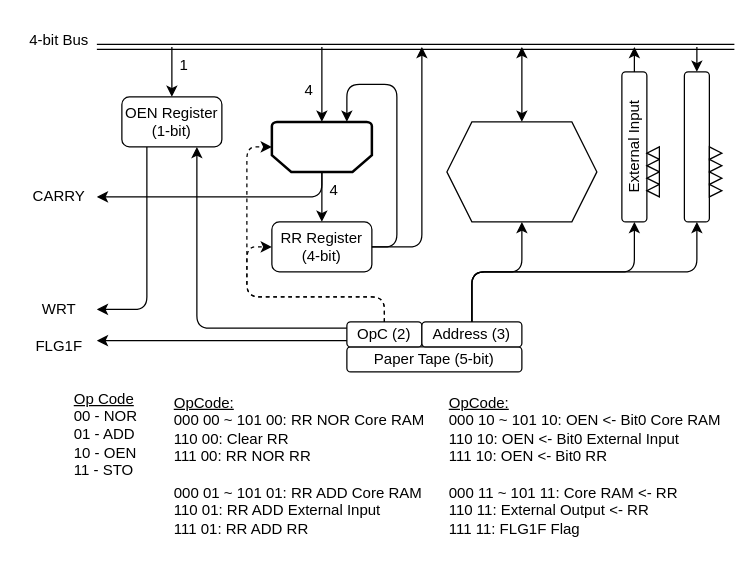
The diagram is 756 pixels wide and 568 high, and some of its shapes have lost their labels. Here are the shapes that lost their labels. From the top down, the centre of each, then its label:
point (321, 146): AU (4-bit)
point (696, 146): External Output
point (521, 171): Core Memory (3-bit Address) (4-bit Data)
